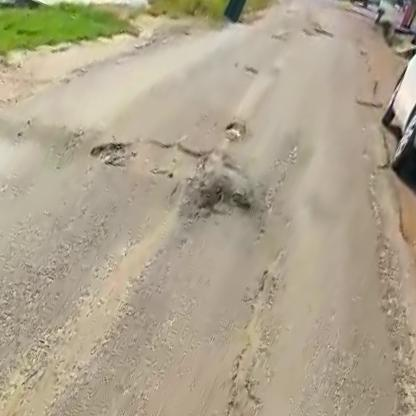pothole: (83, 104, 240, 215), (187, 169, 260, 239), (220, 118, 250, 147)
